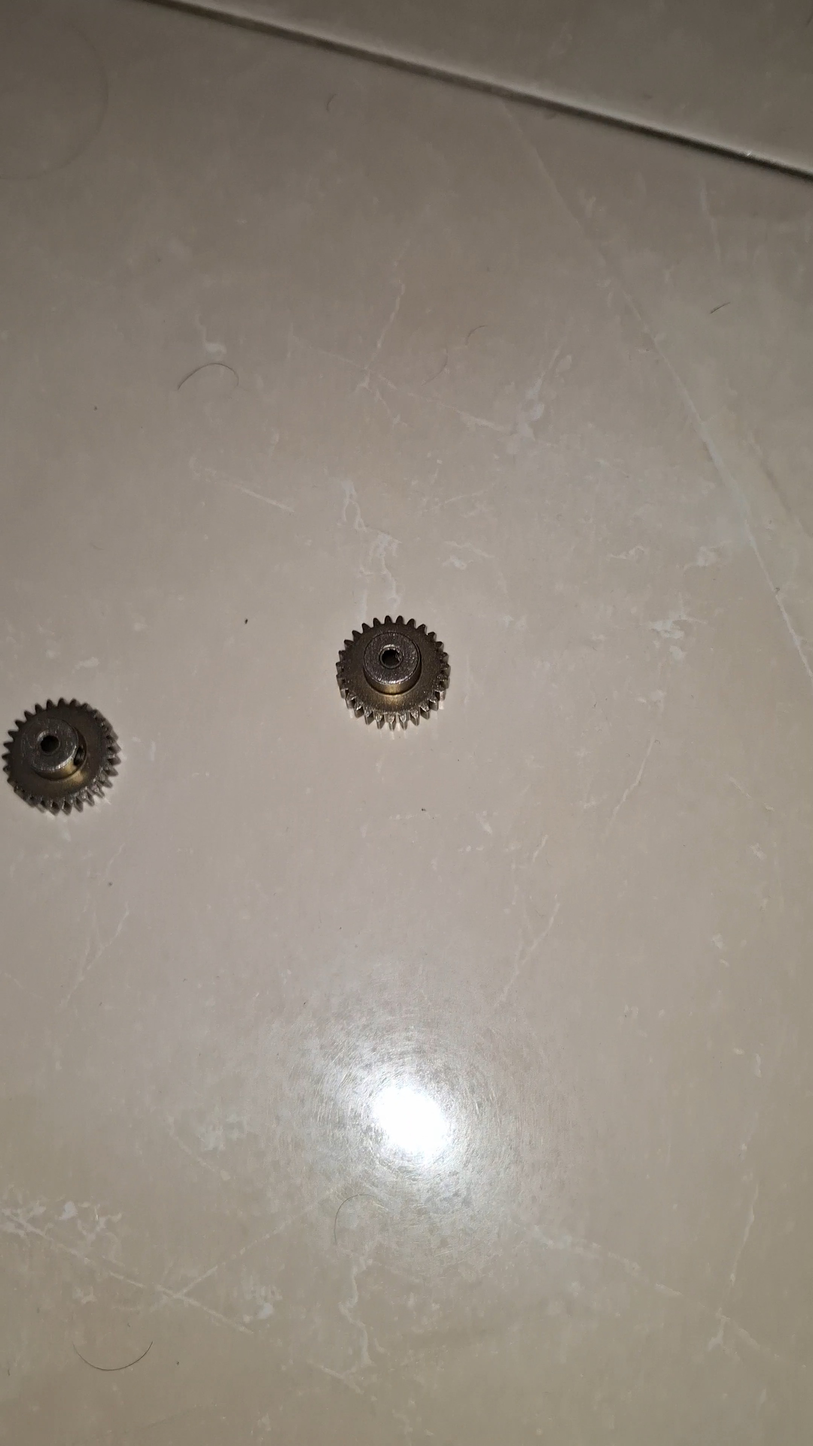spur gear: (3, 699, 119, 813), (337, 616, 449, 728)
